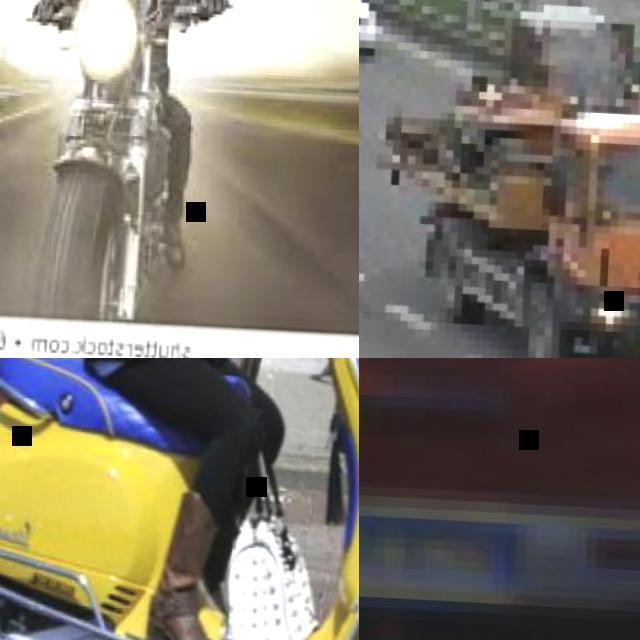car: (399, 42, 640, 344)
